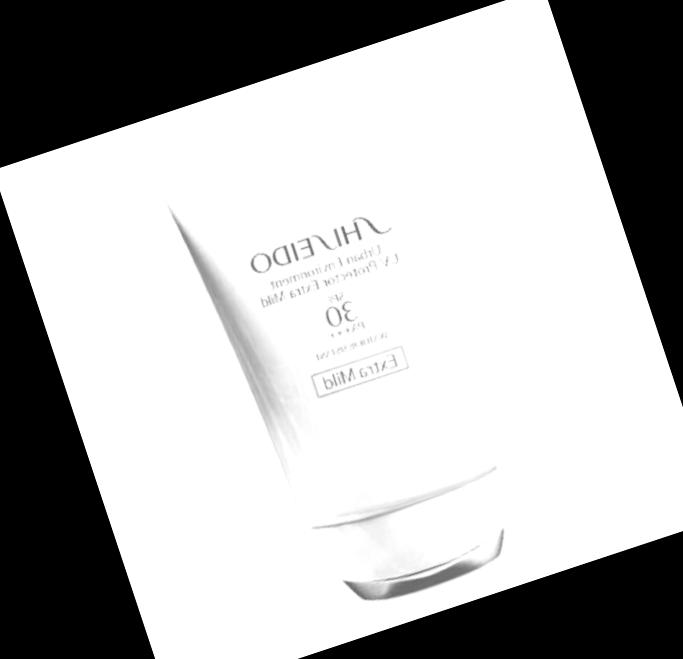cosmetic: (156, 99, 560, 633)
